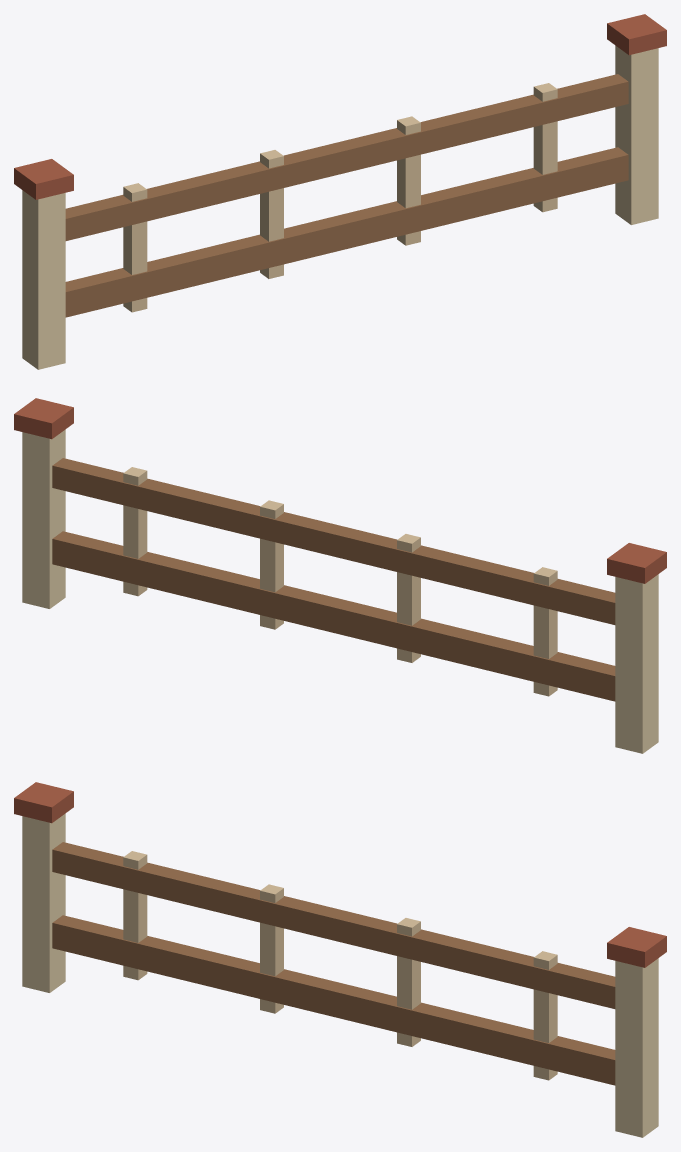
File: yard_fence.glb
The picture shows the model from 3 angles, top to bottom: view 1: azimuth 30°, elevation 25°; view 2: azimuth 150°, elevation 25°; view 3: azimuth 330°, elevation 25°; orthographic projection.
Parts seen in each view (by area): view 1: _MeshInstance3D_524, _MeshInstance3D_527, _MeshInstance3D_520, _MeshInstance3D_522, _MeshInstance3D_528, _MeshInstance3D_531, _MeshInstance3D_521, _MeshInstance3D_523, _MeshInstance3D_530, _MeshInstance3D_529; view 2: _MeshInstance3D_524, _MeshInstance3D_527, _MeshInstance3D_520, _MeshInstance3D_522, _MeshInstance3D_528, _MeshInstance3D_531, _MeshInstance3D_521, _MeshInstance3D_523, _MeshInstance3D_530, _MeshInstance3D_529; view 3: _MeshInstance3D_524, _MeshInstance3D_527, _MeshInstance3D_522, _MeshInstance3D_520, _MeshInstance3D_531, _MeshInstance3D_528, _MeshInstance3D_521, _MeshInstance3D_523, _MeshInstance3D_529, _MeshInstance3D_530.
Boxes of the visible parts, <box> form: _MeshInstance3D_524: <box>65,147,628,317</box>; _MeshInstance3D_527: <box>65,74,628,240</box>; _MeshInstance3D_520: <box>22,190,65,369</box>; _MeshInstance3D_522: <box>615,45,658,224</box>; _MeshInstance3D_528: <box>123,183,147,312</box>; _MeshInstance3D_531: <box>533,83,557,212</box>; _MeshInstance3D_521: <box>14,159,73,199</box>; _MeshInstance3D_523: <box>607,14,666,55</box>; _MeshInstance3D_530: <box>397,116,420,245</box>; _MeshInstance3D_529: <box>260,150,283,278</box>; _MeshInstance3D_524: <box>52,531,615,701</box>; _MeshInstance3D_527: <box>52,458,615,624</box>; _MeshInstance3D_520: <box>615,574,658,753</box>; _MeshInstance3D_522: <box>22,429,65,608</box>; _MeshInstance3D_528: <box>533,567,557,696</box>; _MeshInstance3D_531: <box>123,467,147,596</box>; _MeshInstance3D_521: <box>607,543,666,583</box>; _MeshInstance3D_523: <box>14,398,73,439</box>; _MeshInstance3D_530: <box>260,500,283,629</box>; _MeshInstance3D_529: <box>397,534,420,662</box>; _MeshInstance3D_524: <box>52,915,615,1085</box>; _MeshInstance3D_527: <box>52,842,615,1008</box>; _MeshInstance3D_522: <box>615,958,658,1137</box>; _MeshInstance3D_520: <box>22,813,65,992</box>; _MeshInstance3D_531: <box>533,951,557,1080</box>; _MeshInstance3D_528: <box>123,851,147,980</box>; _MeshInstance3D_521: <box>14,782,73,823</box>; _MeshInstance3D_523: <box>607,927,666,967</box>; _MeshInstance3D_529: <box>260,884,283,1013</box>; _MeshInstance3D_530: <box>397,918,420,1046</box>.
Bounding box in the file's own units: 4.15 × 1.19 × 0.25.
